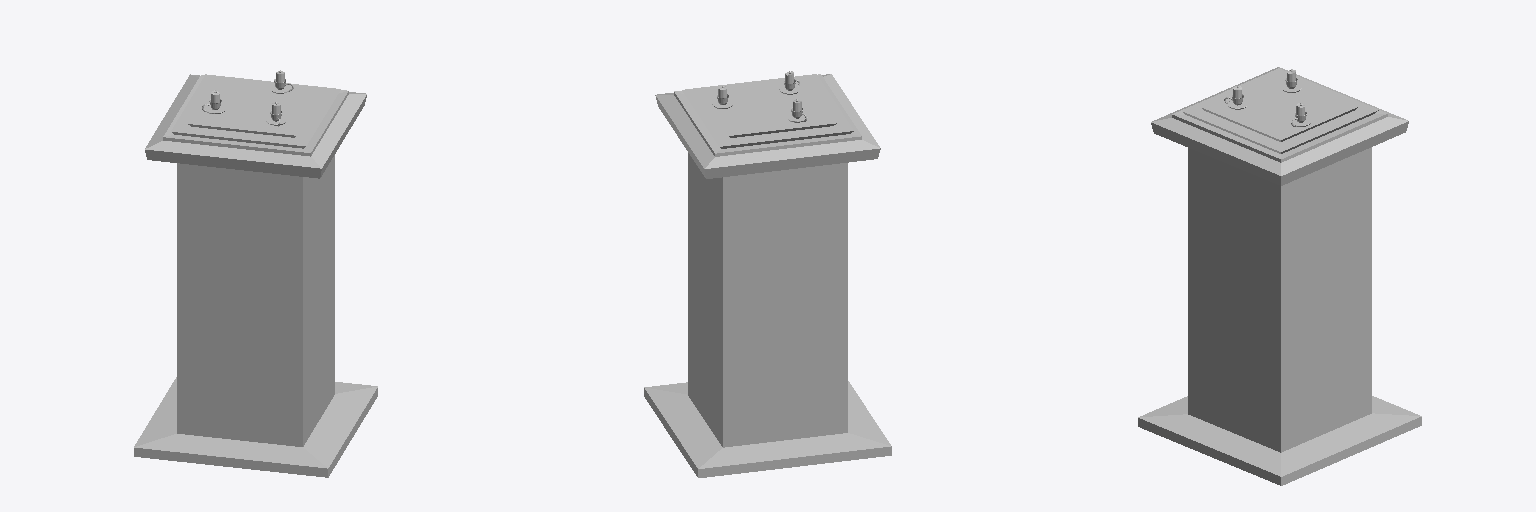
The model's file is Pedestal.obj.
3 views of the same model, side by side, from view 1: azimuth 30°, elevation 25°; view 2: azimuth 150°, elevation 25°; view 3: azimuth 270°, elevation 25° (orthographic).
Parts seen in each view (by area): view 1: Pedestal; view 2: Pedestal; view 3: Pedestal.
Boxes of the visible parts, x1,y1,x2,y2 form: Pedestal: [134, 74, 377, 477]; Pedestal: [644, 74, 891, 477]; Pedestal: [1138, 67, 1421, 485].
Size of the model in its own units: 5.34 by 7.05 by 5.34.